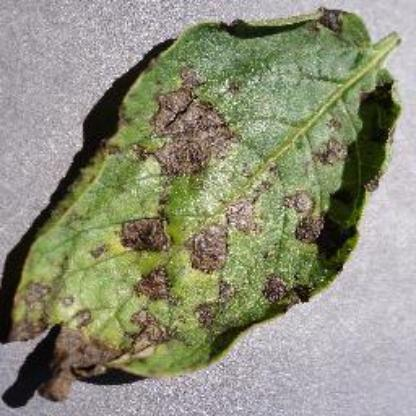Early-Blight: (10, 6, 402, 402)
